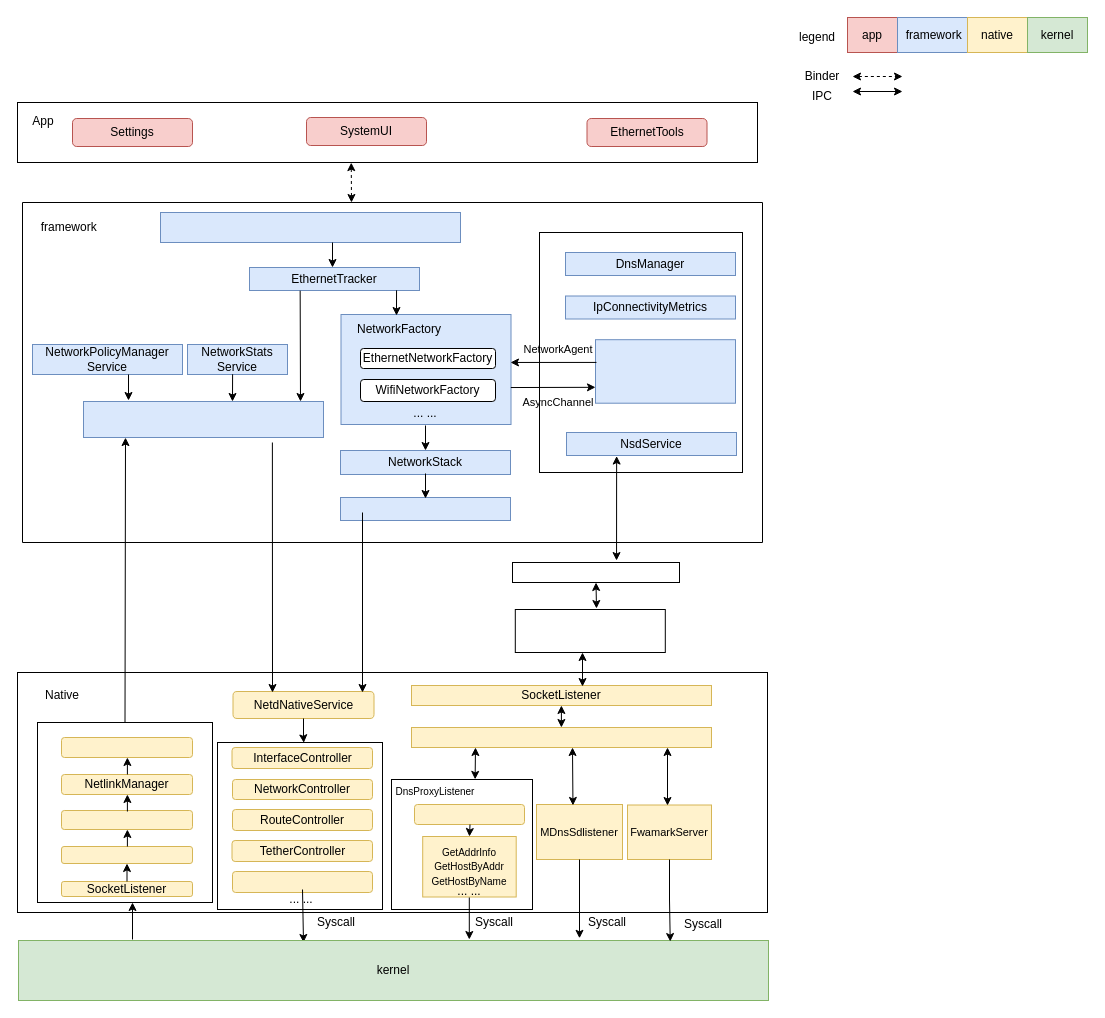
The diagram is 1105 pixels wide and 1018 high, and some of its shapes have lost their labels. Here are the shapes that lost their labels. From the top down, the centre of each, then its label:
the point at 310,227: EthernetService(EthernetServiceImp)
the point at 665,371: ConnectivityService
the point at 203,419: NetworkManagement Service
the point at 425,508: InterfaeController
the point at 596,572: NativeDaemonConnector
the point at 589,630: /dev/socket/mdns /dev/socket/dnsproxyd /dev/socket/fwmarkd
the point at 126,747: EventReporter
the point at 561,737: FrameworkListener
the point at 126,820: NetlinkHander
the point at 469,814: FrameworkCommand
the point at 126,855: NetlinkListener
the point at 302,881: FirewallController
